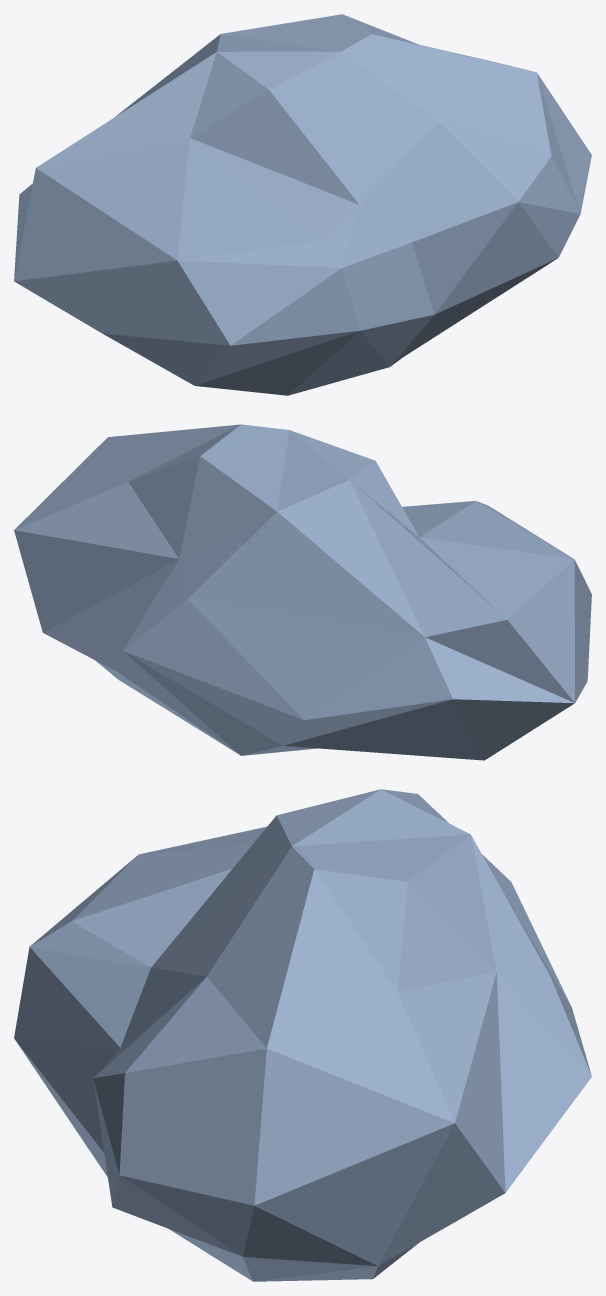
File: cloudA.FBX
3 views of the same model, one above another, from view 1: azimuth 30°, elevation 25°; view 2: azimuth 150°, elevation 25°; view 3: azimuth 270°, elevation 25° (orthographic). The views are drawn at different scales.
Parts seen in each view (by area): view 1: cloudA; view 2: cloudA; view 3: cloudA.
Boxes of the visible parts, x1,y1,x2,y2 form: cloudA: (14,14,591,395); cloudA: (14,424,591,760); cloudA: (14,789,591,1281).
Size of the model in its own units: 45.66 by 22.63 by 31.44.
